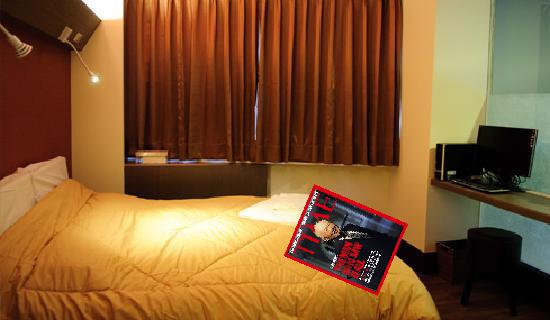times: (284, 182, 407, 293)
